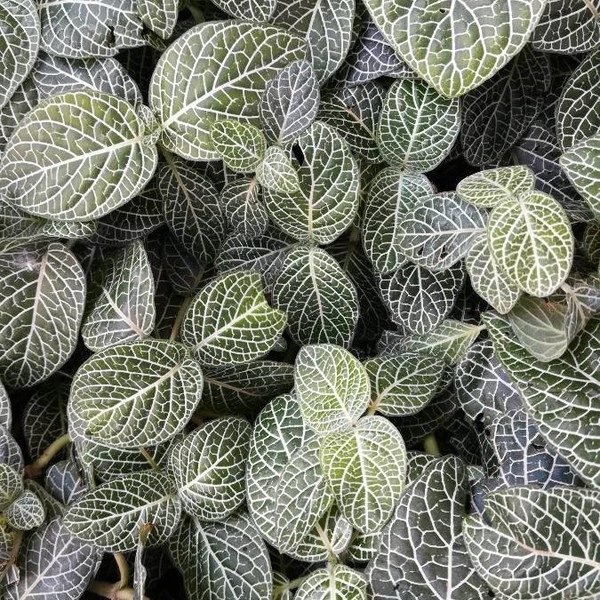obstacle: (26, 49, 573, 555)
